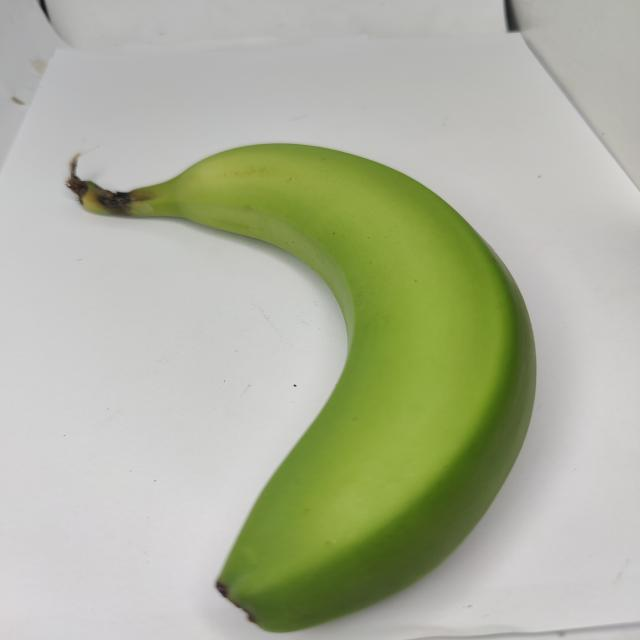raw: (64, 131, 564, 640)
